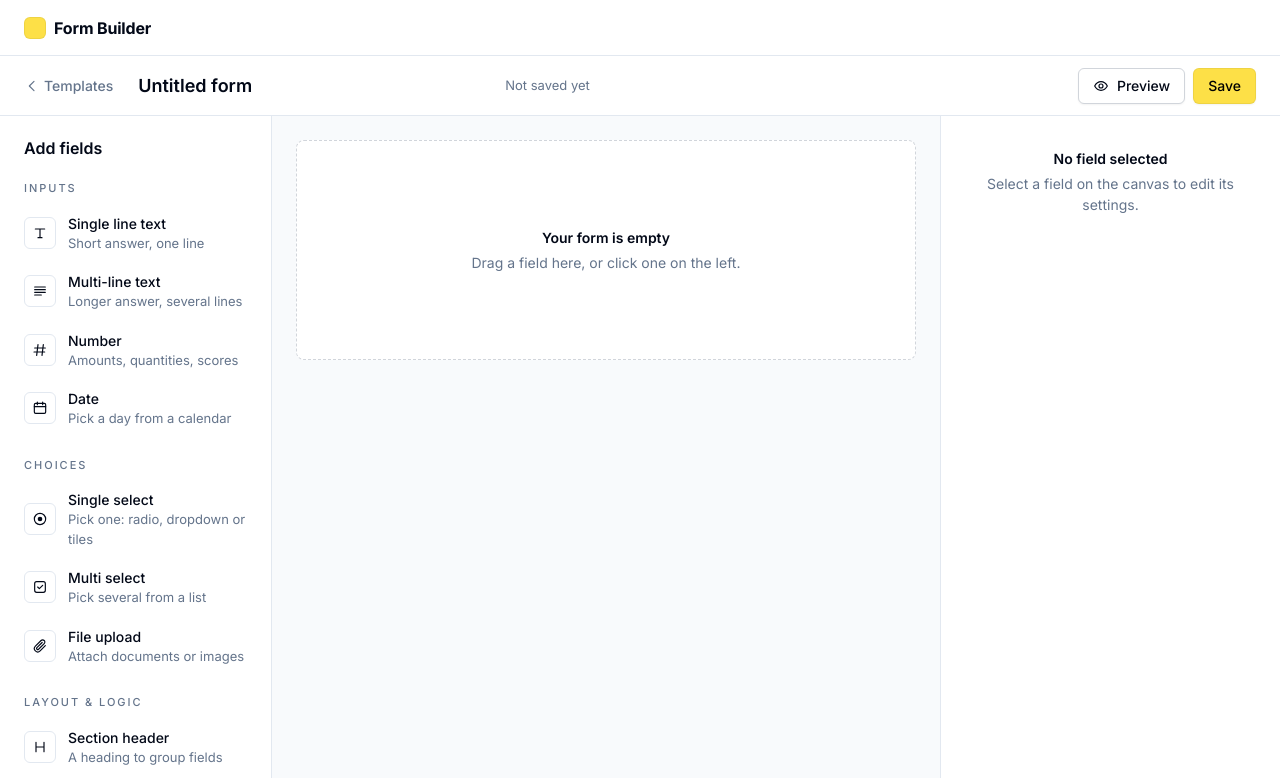
Test: editing the label in settings updates the canvas preview
This screenshot has width=1280, height=778.
Click the button "Single line text Short answer, one line".
click(136, 233)  # box [16,204,255,261]
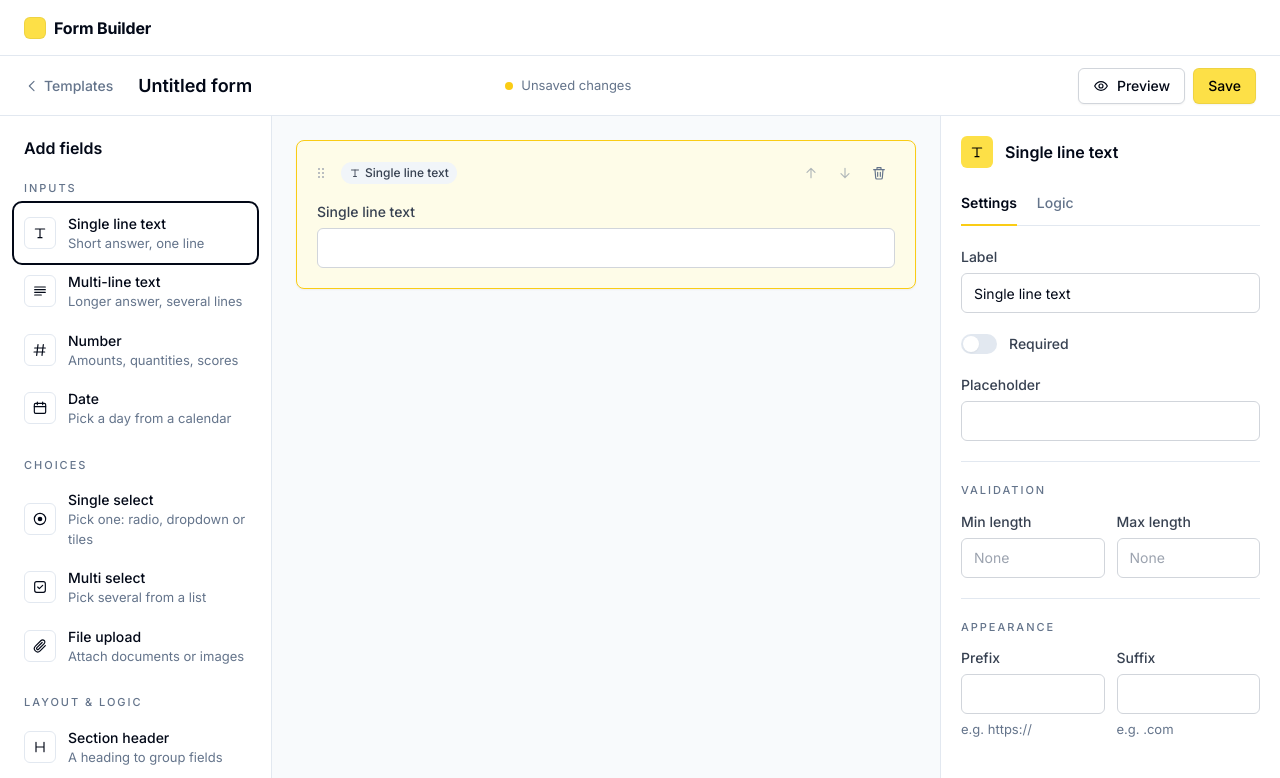
Replace the text in the field labelled "Label" with "Full name" at (1110, 293), box [962,274,1259,312]
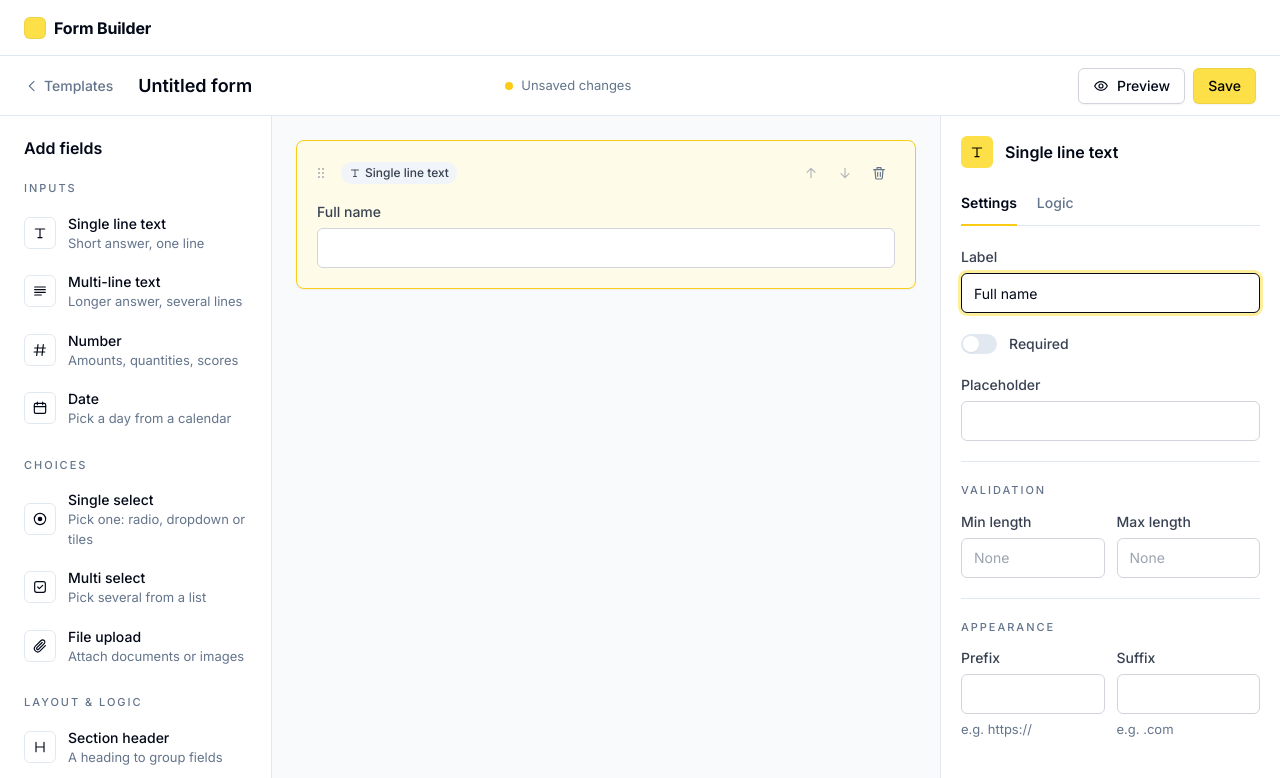
Result: the text "Unsaved changes" is shown at [505,76,631,95]
Result: the text "Full name" is shown at [317,203,381,220]
